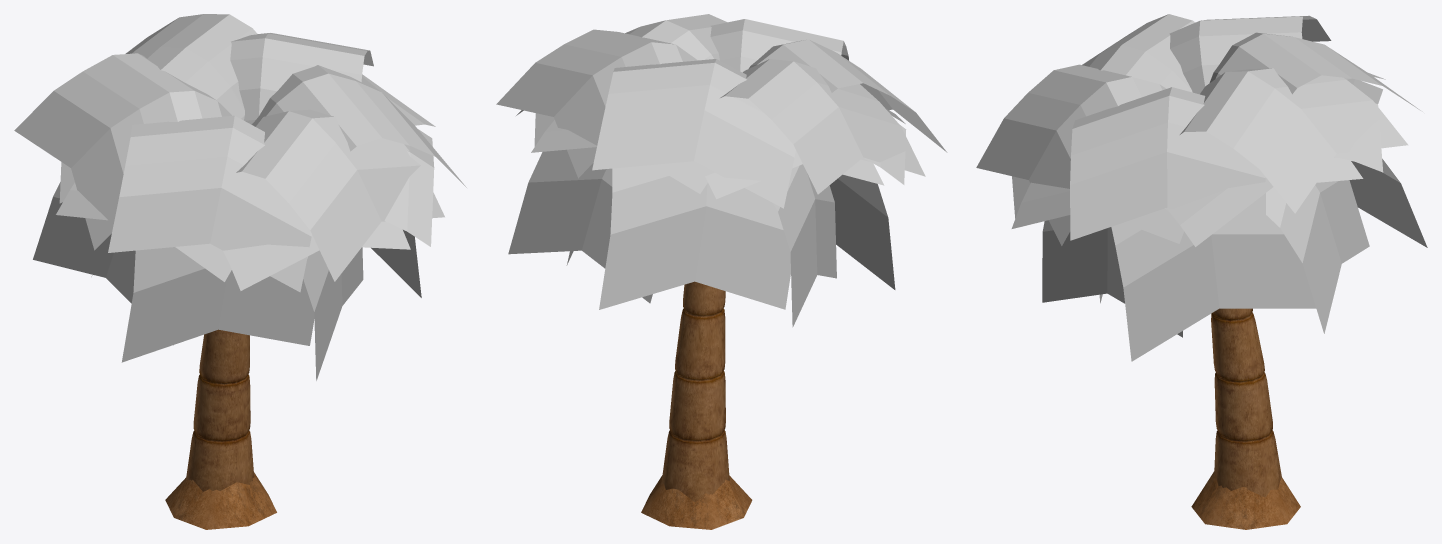
File: Coconut_Tree_Remastered.fbx
The picture shows the model from 3 angles, left to right: view 1: azimuth 30°, elevation 25°; view 2: azimuth 150°, elevation 25°; view 3: azimuth 270°, elevation 25°; orthographic projection.
Visible parts, largest first — view 1: Leaf_Top, Leaf_Bottom, Leaf_Middle, Coconut_Main1, Coconut_Base; view 2: Leaf_Top, Leaf_Bottom, Coconut_Main1, Leaf_Middle, Coconut_Base; view 3: Leaf_Top, Leaf_Bottom, Coconut_Main1, Leaf_Middle, Coconut_Base.
Part boxes in pixels (x1,y1,x2,y2): Leaf_Top: [14, 14, 466, 292]; Leaf_Bottom: [33, 182, 421, 380]; Leaf_Middle: [56, 74, 435, 290]; Coconut_Main1: [186, 329, 254, 491]; Coconut_Base: [165, 472, 276, 529]; Leaf_Top: [496, 14, 947, 208]; Leaf_Bottom: [508, 149, 895, 327]; Coconut_Main1: [661, 281, 729, 502]; Leaf_Middle: [531, 109, 906, 199]; Coconut_Base: [641, 475, 752, 529]; Leaf_Top: [976, 14, 1422, 245]; Leaf_Bottom: [1042, 159, 1427, 361]; Coconut_Main1: [1211, 308, 1281, 497]; Leaf_Middle: [1011, 73, 1385, 246]; Coconut_Base: [1191, 471, 1300, 529].
Size of the model in its own units: 11.06 by 12.88 by 11.46.
